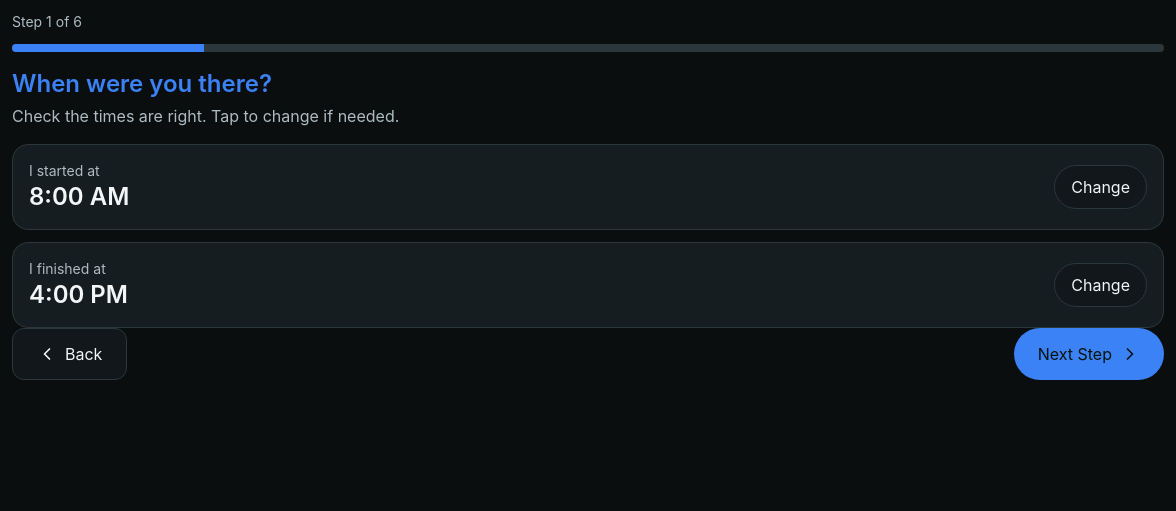
Test: ShiftDocumentationForm › hides the objective picker when the client has no objectives
Click the button "Next Step".
click(1089, 354)  # box [1014,328,1164,380]
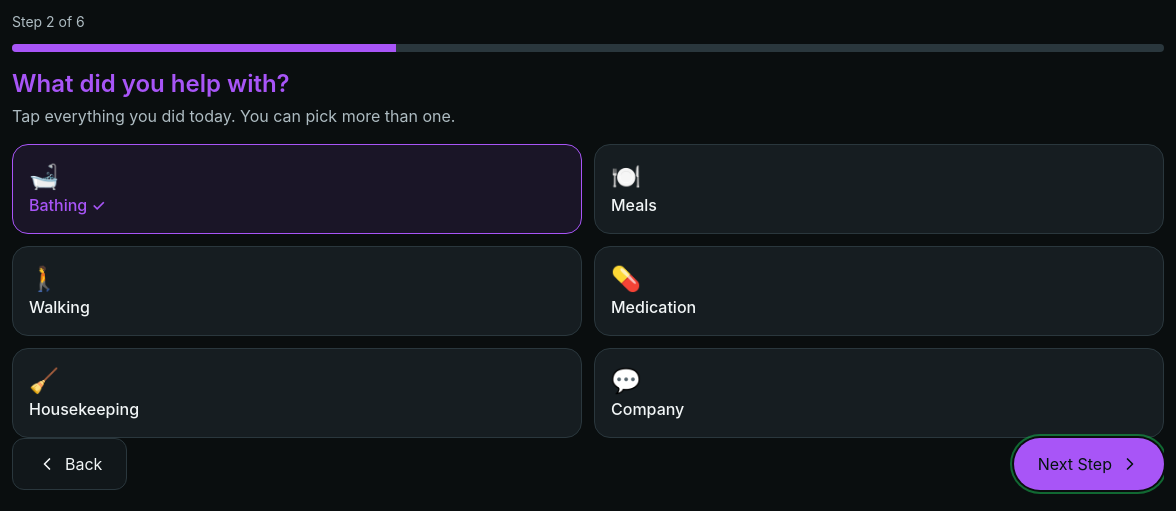
Click the button "Next Step".
click(1089, 464)  # box [1014,438,1164,490]
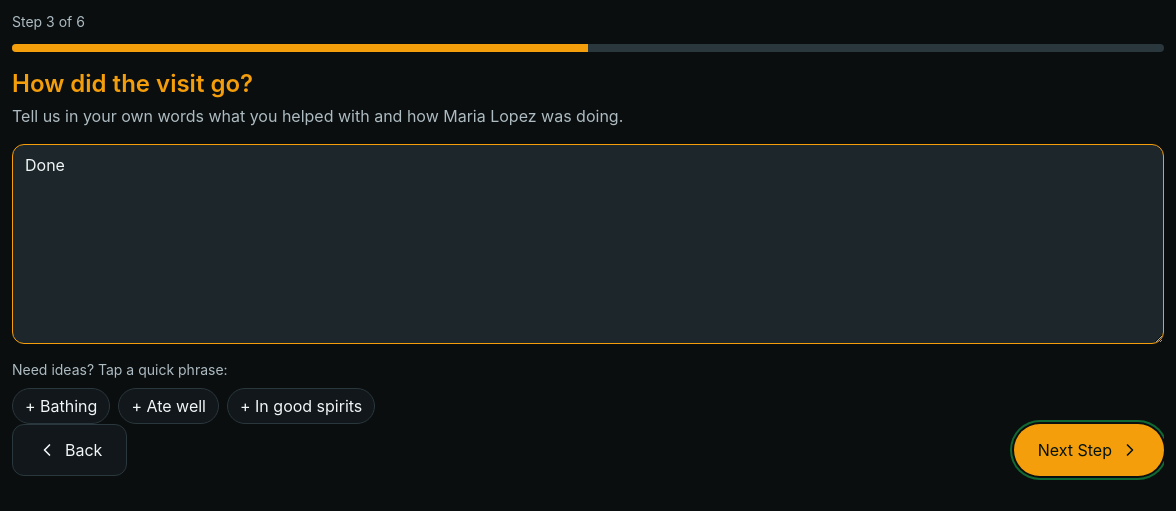
Click the button "Next Step".
click(1089, 450)  # box [1014,424,1164,476]
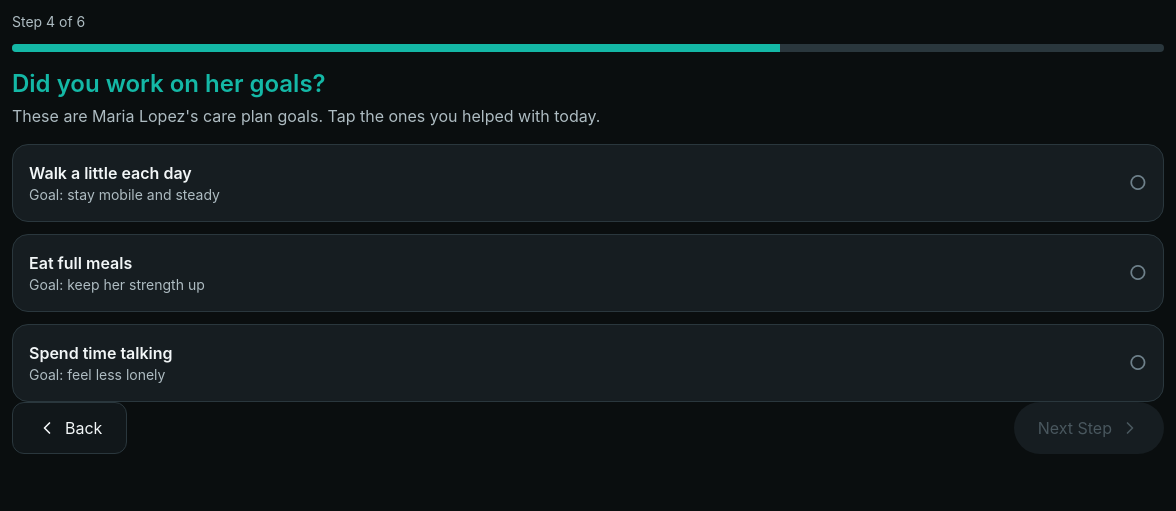
Result: the heading "Did you work on her goals?" is shown at [12,69,326,98]
